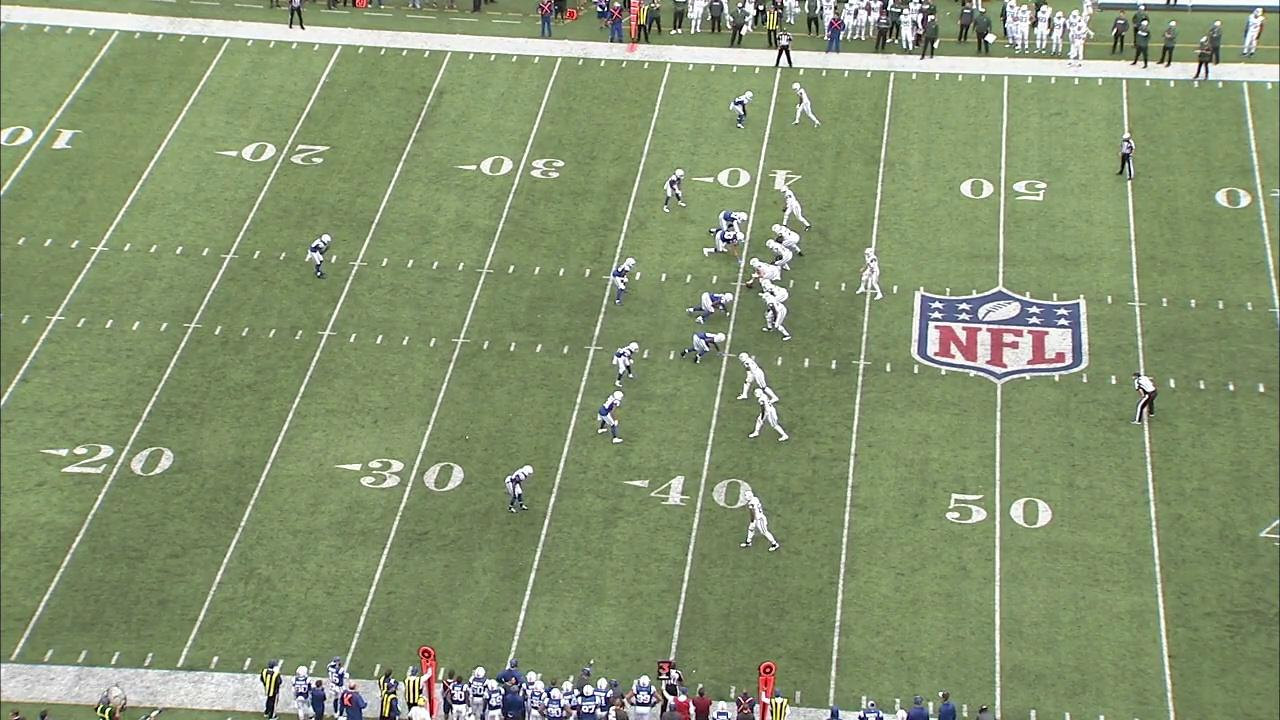player: (739, 489, 780, 553), (747, 386, 790, 444), (735, 352, 780, 405), (759, 291, 794, 343), (685, 290, 737, 325), (679, 330, 728, 367), (595, 390, 627, 446), (854, 246, 885, 302), (778, 184, 812, 234), (503, 464, 535, 515), (701, 230, 746, 266), (790, 81, 822, 130), (757, 278, 790, 325), (744, 256, 780, 297), (612, 339, 641, 388), (661, 166, 690, 214), (610, 257, 637, 308), (708, 209, 750, 238), (308, 232, 333, 280), (727, 89, 755, 131), (771, 223, 804, 258), (765, 238, 794, 272)
ref: (655, 660, 689, 720), (1127, 370, 1159, 425), (1113, 130, 1137, 182), (770, 27, 796, 71), (286, 0, 306, 34)
